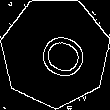O_NW: (24, 22, 87, 83)
